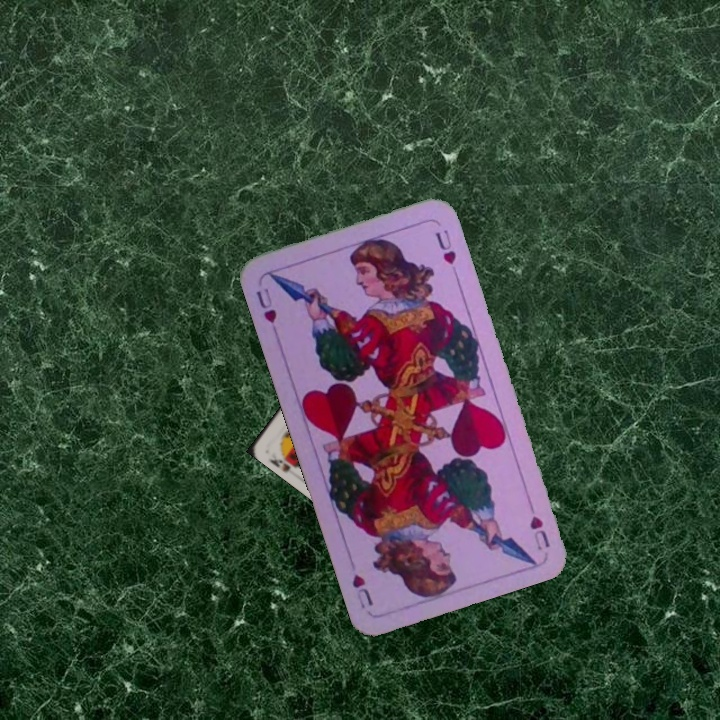HU: (251, 284, 279, 326), (525, 511, 553, 553)
SK: (264, 452, 303, 475)
